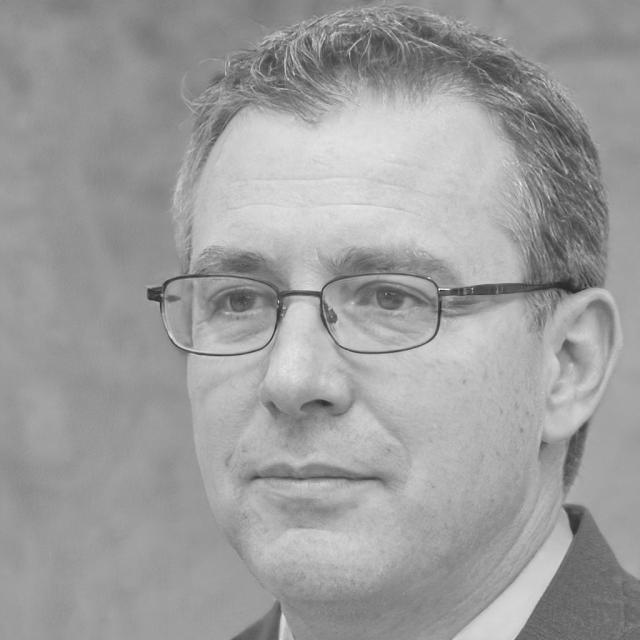lens: (323, 273, 441, 351), (161, 276, 277, 354)
